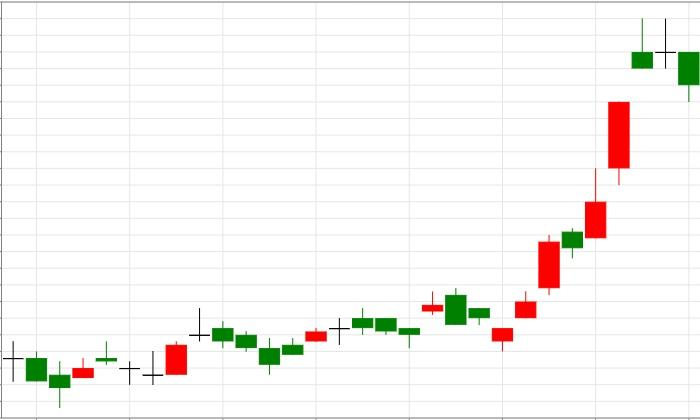shooting_star_fall: (492, 18, 654, 351)
